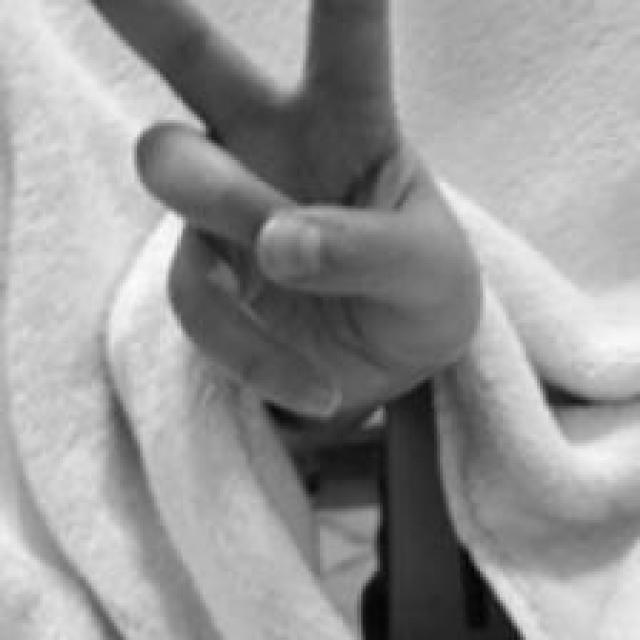V: (87, 1, 483, 423)
